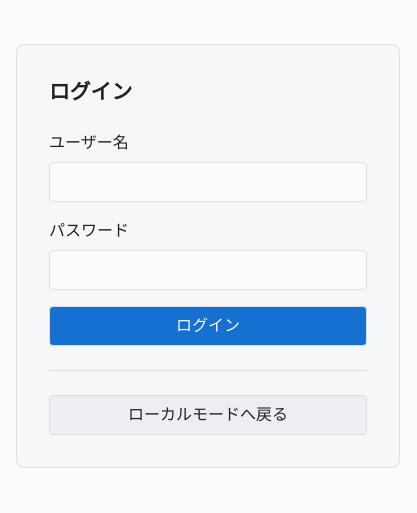
Test: LoginPage › 失敗時に ApiError.detail を日本語エラーとして表示する
Type "x" into the field labelled "ユーザー名" at (208, 182), box [49,162,367,202]
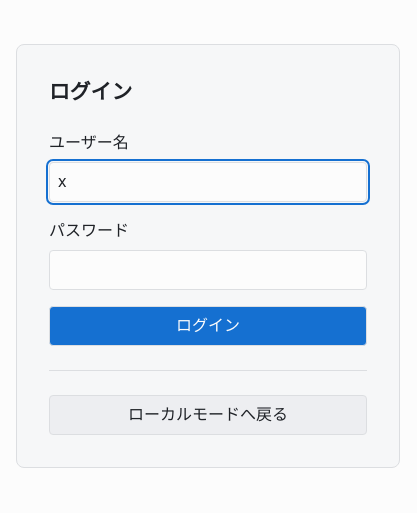
Type "y" into the password field labelled "パスワード" at (208, 270), box [49,250,367,290]
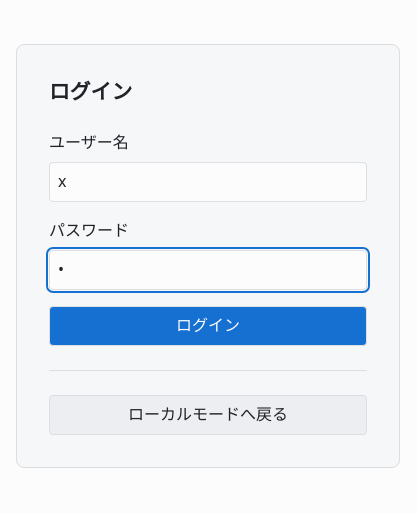
Click the button "ログイン" at (208, 326), box [49,306,367,346]
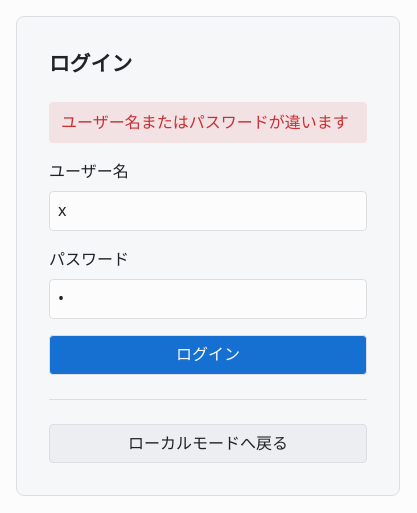
Now the message reads "ユーザー名またはパスワードが違います", box [61,111,349,133]
